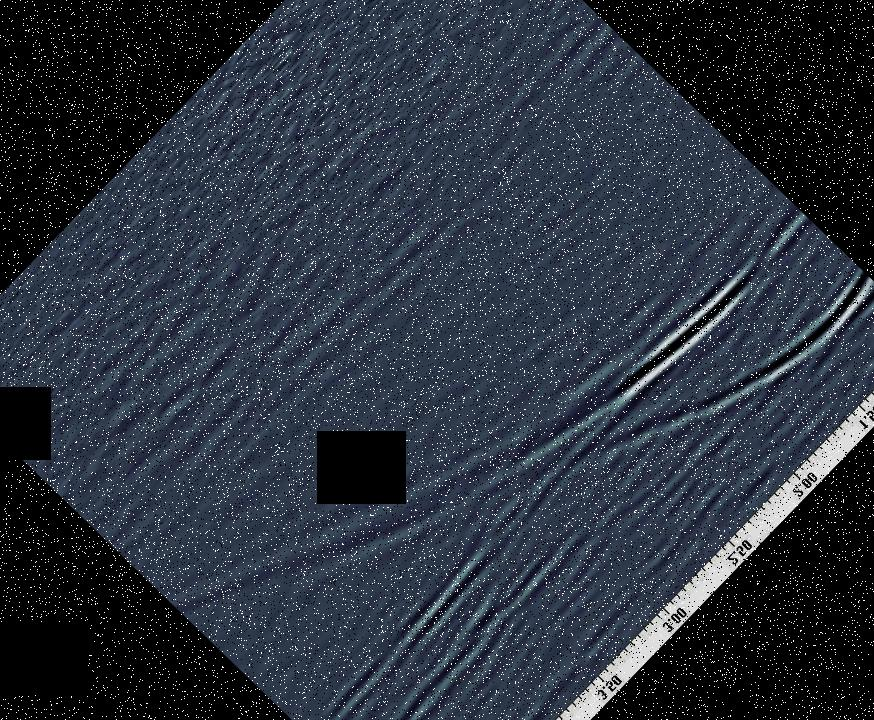Hyperbola: (131, 47, 874, 720), (163, 78, 814, 720)
